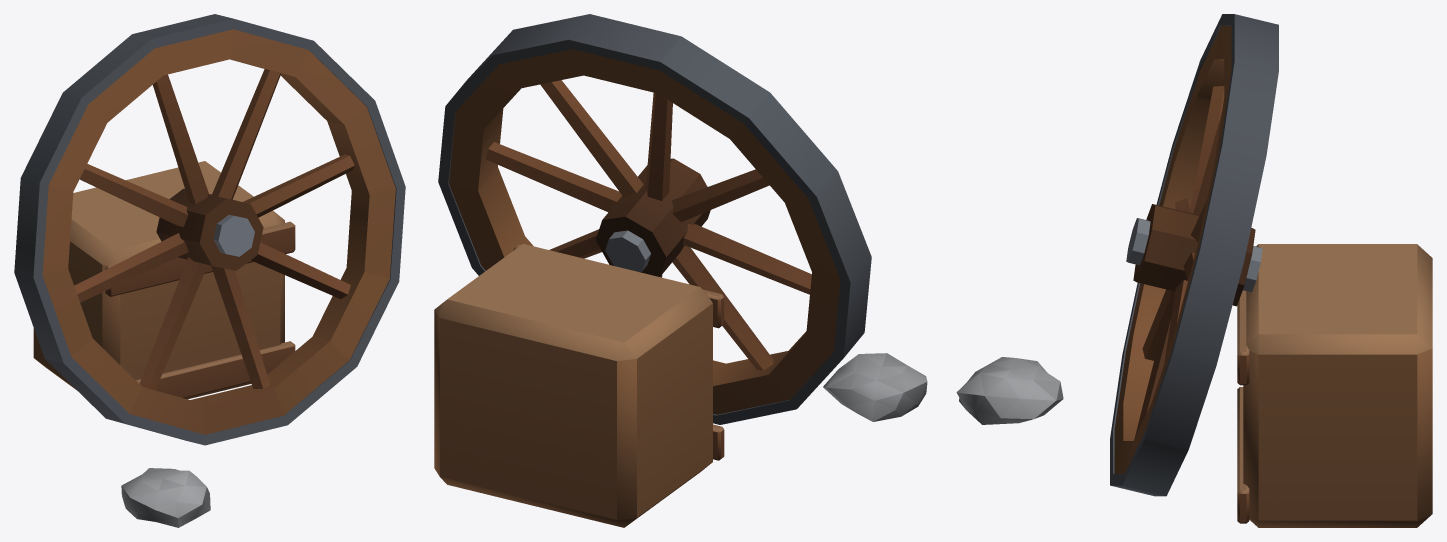
The model's file is muster_cart_wheel.glb.
3 renders of one model, left to right at view 1: azimuth 30°, elevation 25°; view 2: azimuth 150°, elevation 25°; view 3: azimuth 270°, elevation 25°, orthographic. The views are drawn at different scales.
Parts seen in each view (by area): view 1: MusterCartWheelBody; view 2: MusterCartWheelBody; view 3: MusterCartWheelBody.
Part boxes in pixels (x1,y1,x2,y2): MusterCartWheelBody: [14, 14, 405, 527]; MusterCartWheelBody: [434, 14, 927, 527]; MusterCartWheelBody: [956, 14, 1432, 527].
Bounding box in the file's own units: 1.63 × 1.59 × 1.56.
